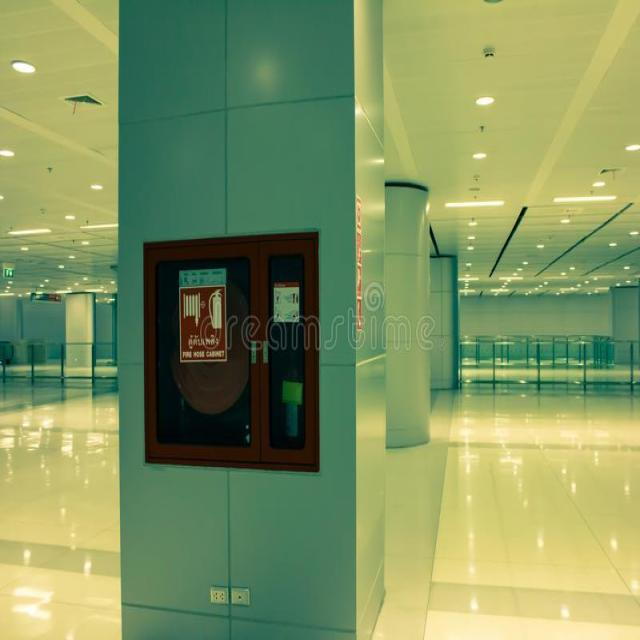fire_extinguisher: (275, 259, 307, 454)
